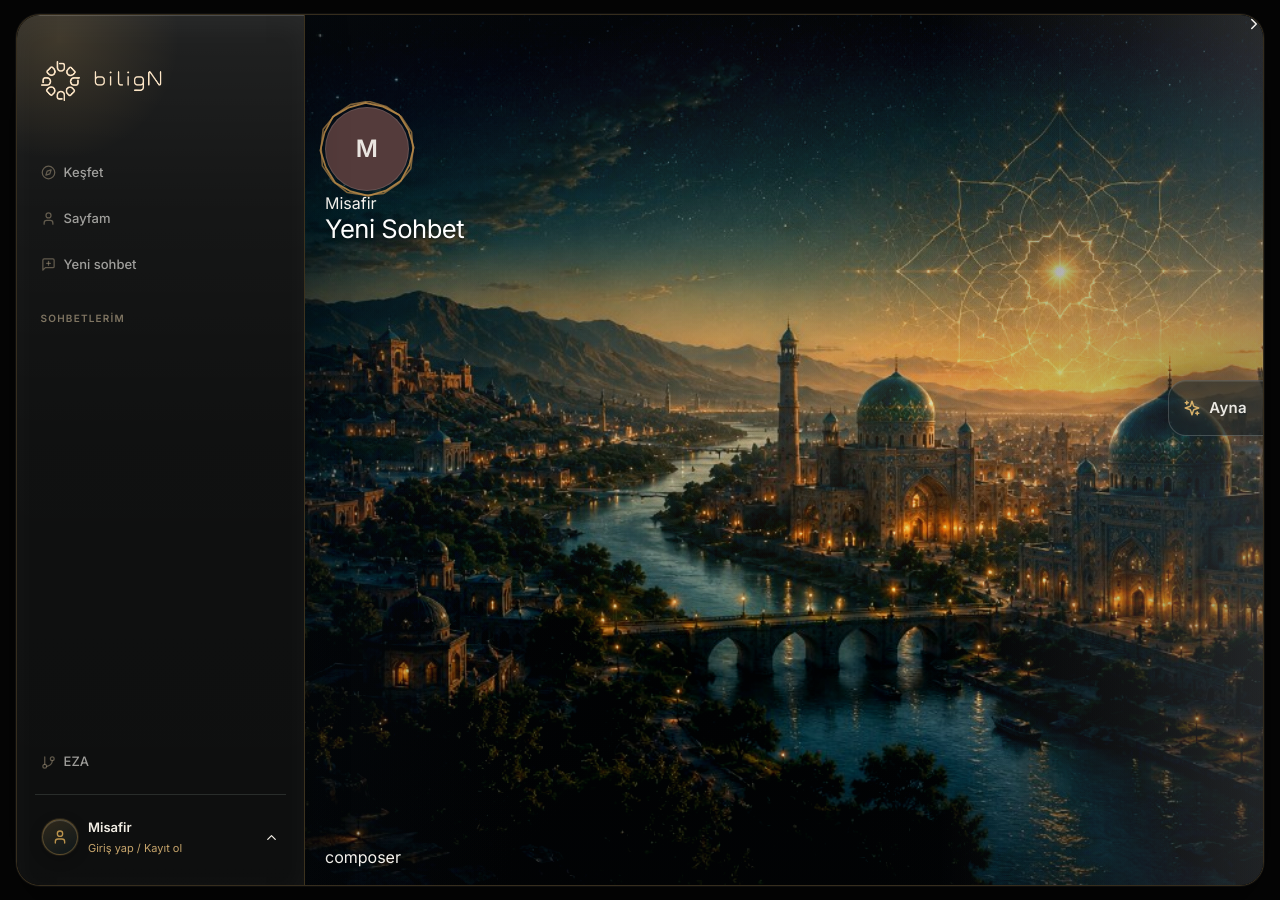
SainaStandaloneShell (Sprint B.2E plan card) › keeps one account entry and trusts the current auth identity over stale shell tier anonymous
This screenshot has width=1280, height=900.
Step 1. Click the button with test id "saina-profile-menu-trigger" → (160,837), box [35, 807, 286, 867]
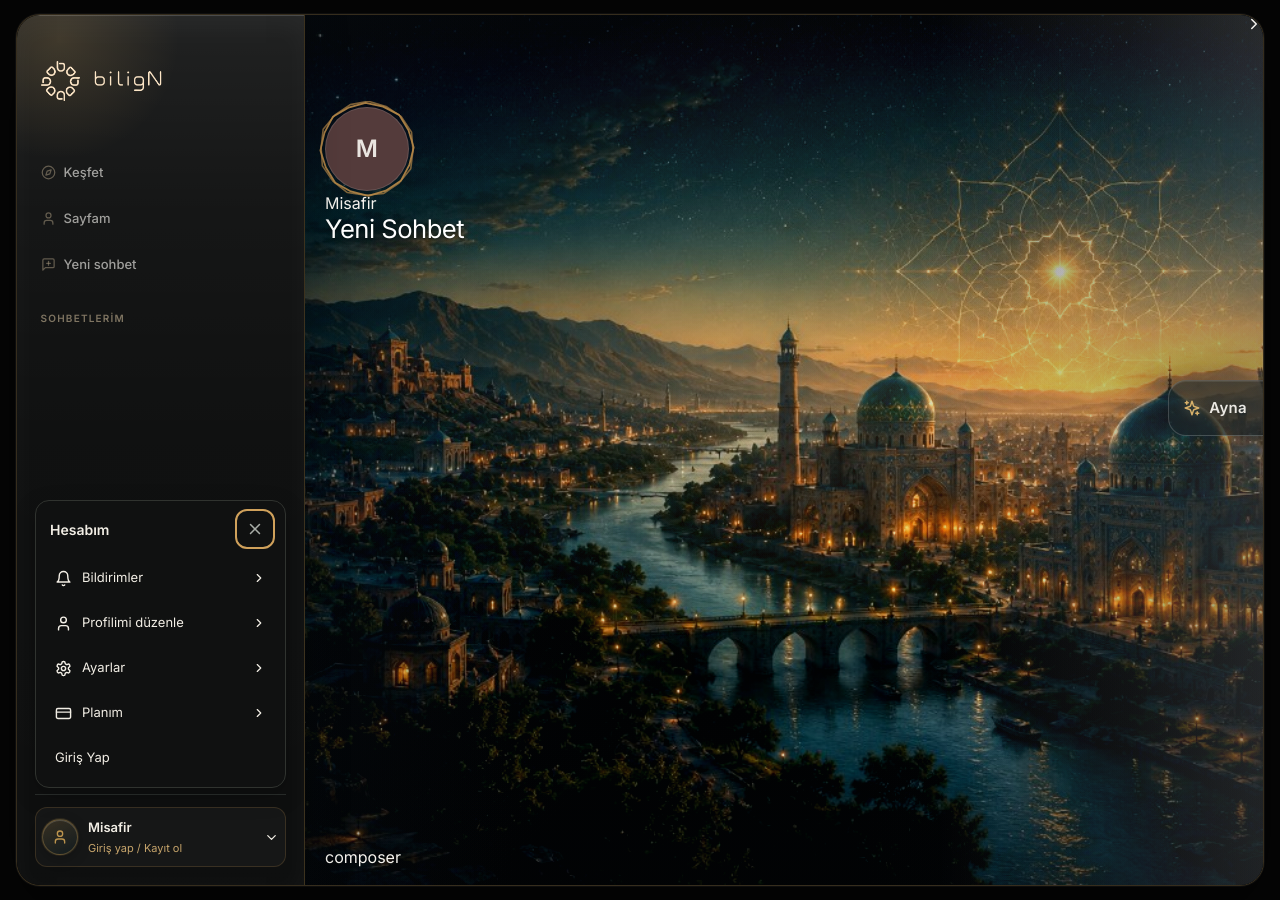
Result: the link with test id "saina-profile-login" is shown at [55, 749, 110, 765]
